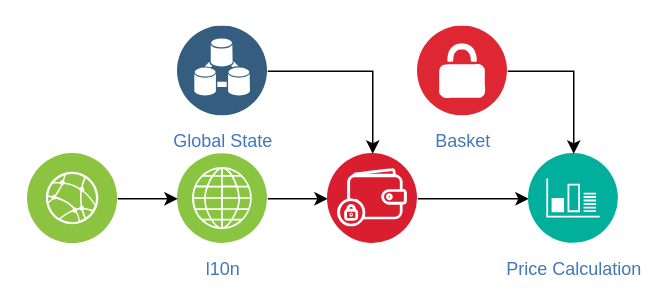
This 668x305 diagram has some shape labels left out. Each missing label, with the box of its shape:
IP2Location: (27, 153, 117, 243)
Tax Rate: (327, 153, 417, 243)
